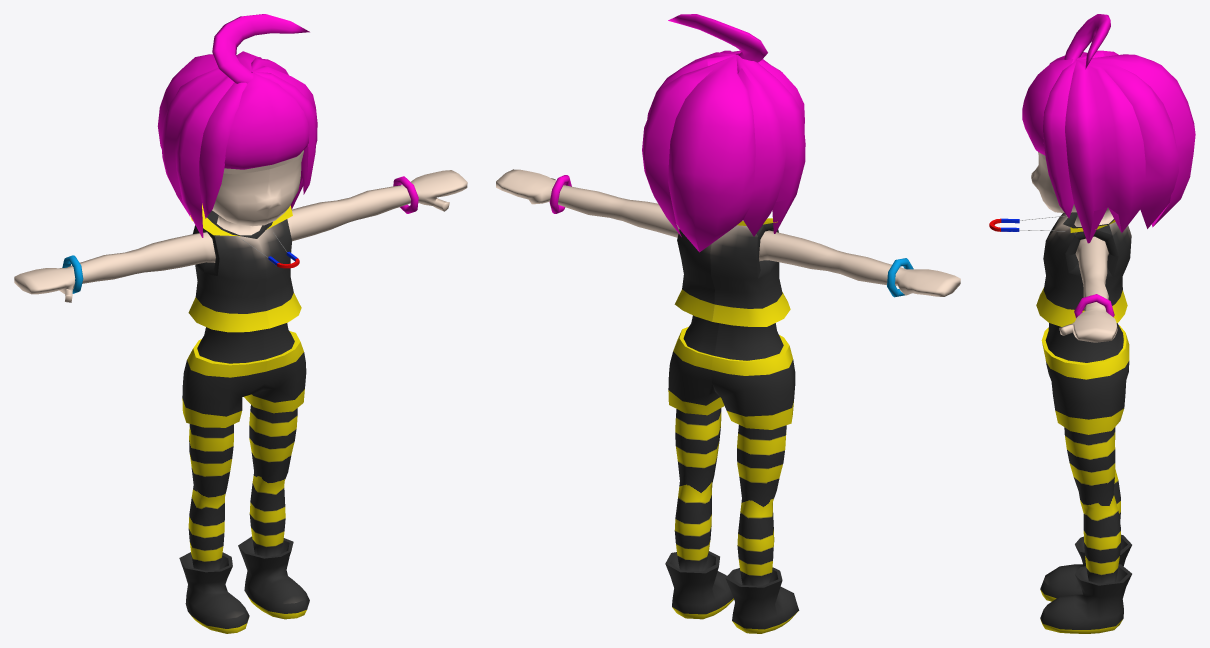
The model's file is chara_01.fbx.
3 views of the same model, side by side, from view 1: azimuth 30°, elevation 25°; view 2: azimuth 150°, elevation 25°; view 3: azimuth 270°, elevation 25° (orthographic). The views are drawn at different scales.
Parts seen in each view (by area): view 1: chara1, hair1, hair2, hair3; view 2: chara1, hair1, hair3; view 3: chara1, hair1, hair2, hair3, bracelet_l.
Boxes of the visible parts, left/top/right/bottom form: chara1: left=14, top=150, right=467, bottom=633; hair1: left=157, top=51, right=317, bottom=237; hair2: left=224, top=72, right=309, bottom=169; hair3: left=212, top=14, right=309, bottom=83; chara1: left=496, top=169, right=960, bottom=633; hair1: left=642, top=50, right=805, bottom=252; hair3: left=668, top=14, right=767, bottom=62; chara1: left=1031, top=152, right=1131, bottom=633; hair1: left=1042, top=50, right=1195, bottom=243; hair2: left=1022, top=59, right=1073, bottom=155; hair3: left=1064, top=14, right=1110, bottom=69; bracelet_l: left=1074, top=294, right=1114, bottom=318.
Size of the model in its own units: 25.01 by 31.93 by 10.03.
